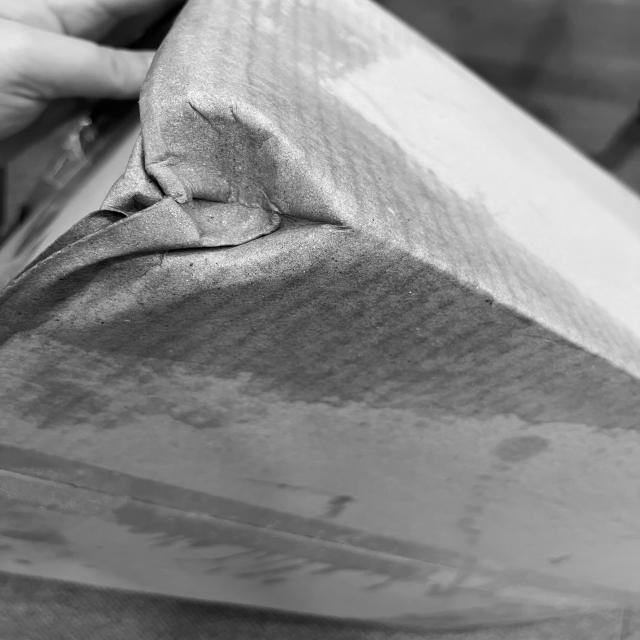wet: (34, 71, 638, 435)
